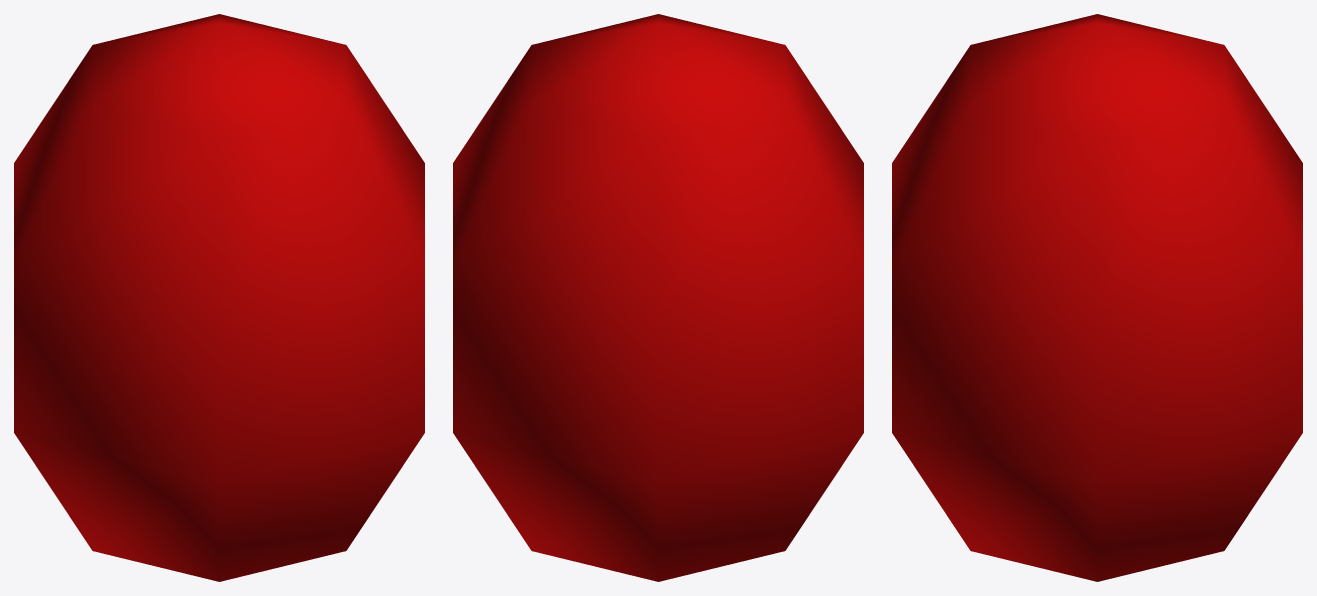
The model's file is cherryLow_ARgame.fbx.
The picture shows the model from 3 angles, left to right: view 1: azimuth 30°, elevation 25°; view 2: azimuth 150°, elevation 25°; view 3: azimuth 270°, elevation 25°; orthographic projection.
Visible parts, largest first — view 1: cherry; view 2: cherry; view 3: cherry.
Part boxes in pixels (x1,y1,x2,y2): cherry: [14, 14, 424, 581]; cherry: [453, 14, 863, 581]; cherry: [892, 14, 1302, 581].
Size of the model in its own units: 2.66 by 3.4 by 2.31.
